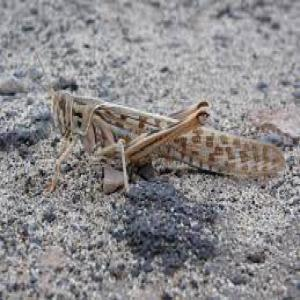locust: (46, 74, 300, 188)
